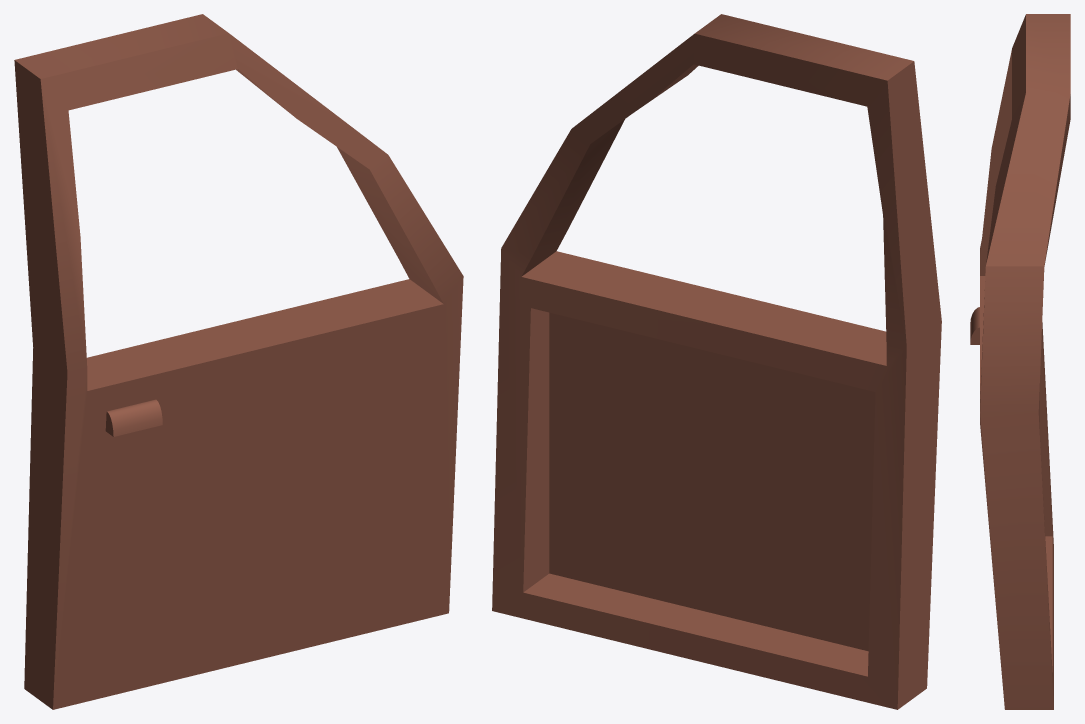
File: RustyCarDoor.fbx
3 renders of one model, left to right at view 1: azimuth 30°, elevation 25°; view 2: azimuth 150°, elevation 25°; view 3: azimuth 270°, elevation 25°, orthographic. The views are drawn at different scales.
Visible parts, largest first — view 1: pCube6; view 2: pCube6; view 3: pCube6.
Boxes of the visible parts, <box> form: pCube6: <box>14,14,463,709</box>; pCube6: <box>492,14,941,709</box>; pCube6: <box>970,14,1070,709</box>.
Size of the model in its own units: 2 by 3 by 0.5146.
